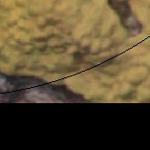alive: (2, 13, 145, 100)
